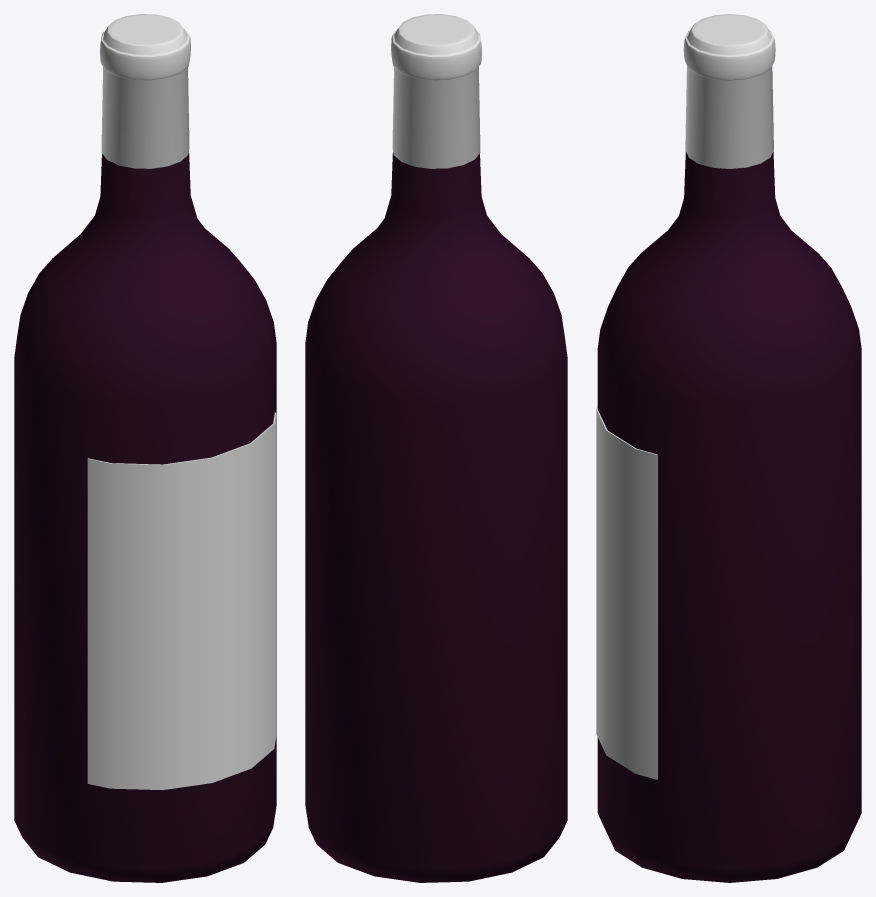
File: MESH_Bottle_K.fbx
3 views of the same model, side by side, from view 1: azimuth 30°, elevation 25°; view 2: azimuth 150°, elevation 25°; view 3: azimuth 270°, elevation 25° (orthographic).
Visible parts, largest first — view 1: Bottle_K; view 2: Bottle_K; view 3: Bottle_K.
Part boxes in pixels (x1,y1,x2,y2): Bottle_K: [14, 14, 276, 882]; Bottle_K: [305, 14, 567, 882]; Bottle_K: [596, 14, 861, 882].
Bounding box in the file's own units: 19.66 × 66.34 × 19.76.
